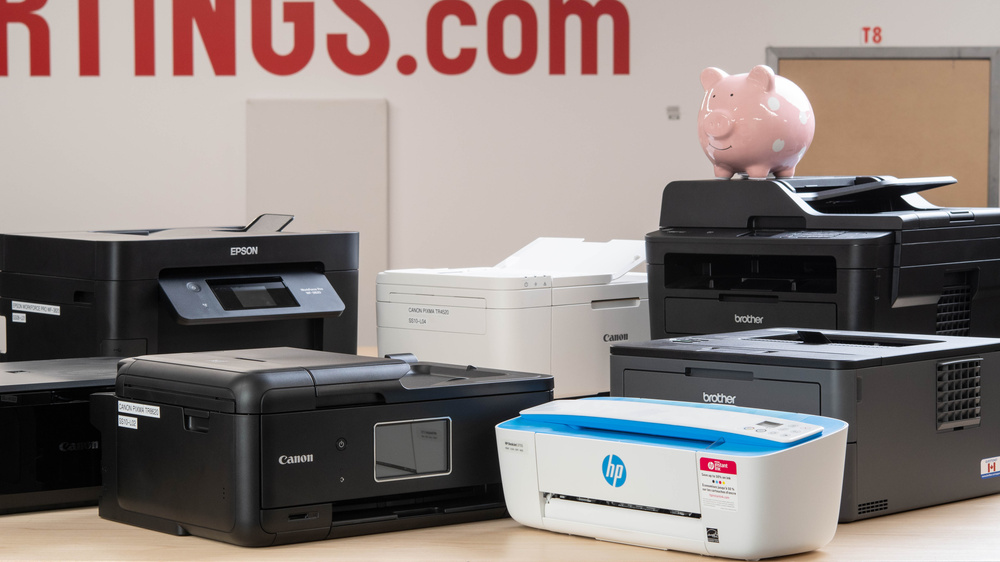printer: (112, 348, 561, 550), (497, 391, 844, 562), (5, 222, 363, 335)
